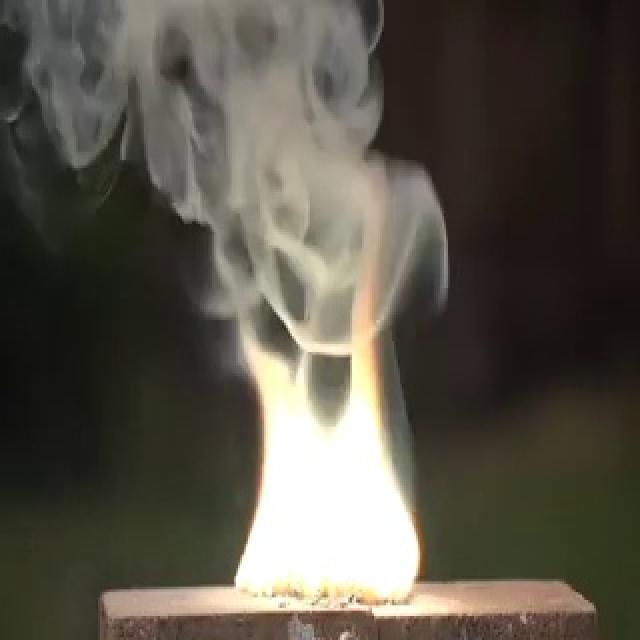fire: (215, 258, 423, 608)
